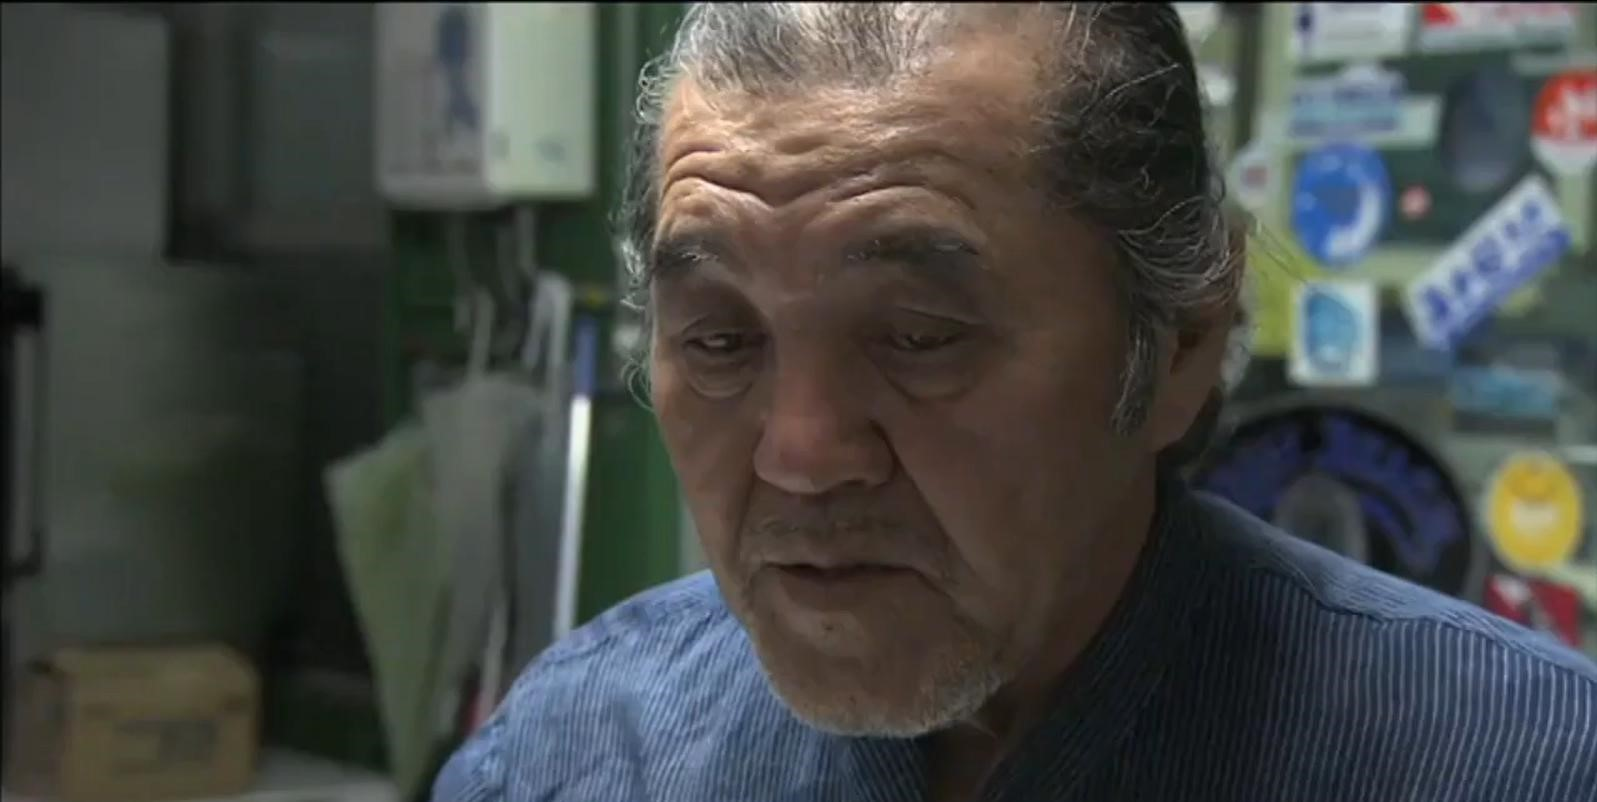without_mask: (718, 195, 1006, 617)
